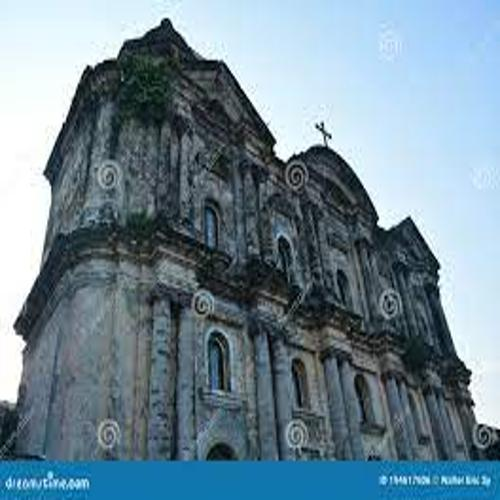Taal Basilica Church: (12, 17, 492, 457)
